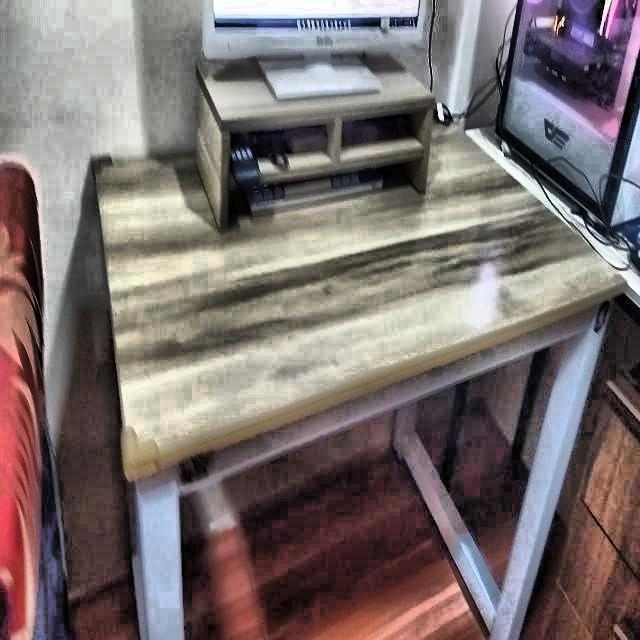mesa: (89, 111, 628, 640)
